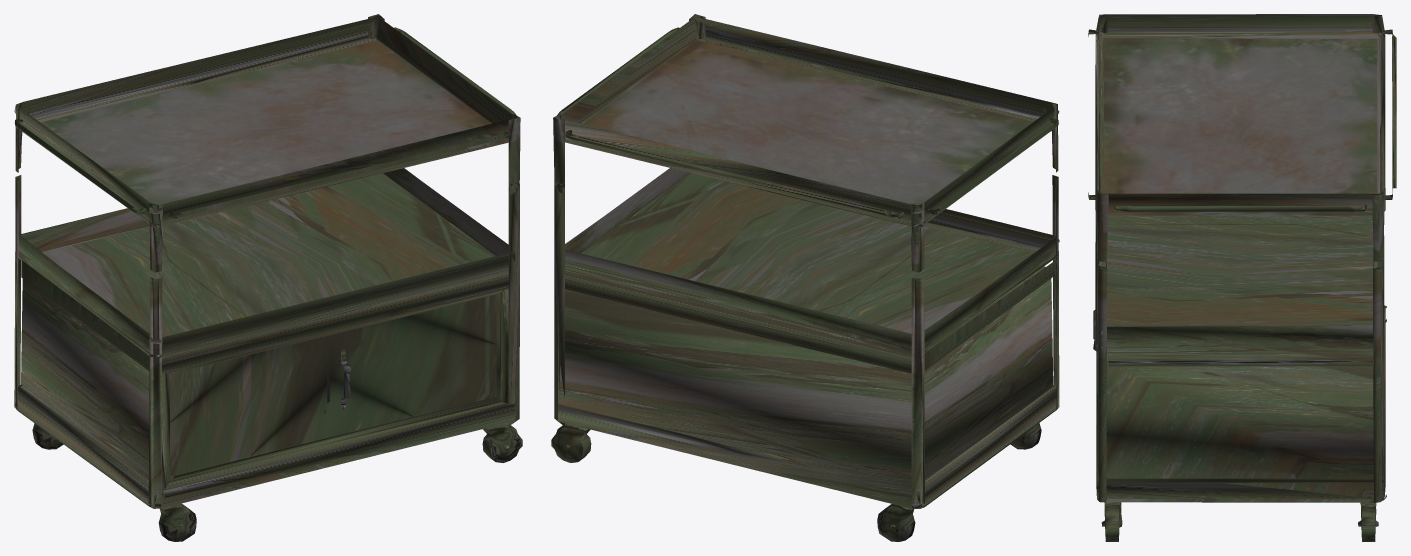
The model's file is industrial_storage_cart.glb.
3 views of the same model, side by side, from view 1: azimuth 30°, elevation 25°; view 2: azimuth 150°, elevation 25°; view 3: azimuth 270°, elevation 25° (orthographic).
Visible parts, largest first — view 1: industrial_storage_cart; view 2: industrial_storage_cart; view 3: industrial_storage_cart.
Boxes of the visible parts, x1,y1,x2,y2 form: industrial_storage_cart: (14, 14, 522, 541); industrial_storage_cart: (551, 14, 1059, 541); industrial_storage_cart: (1088, 14, 1396, 541).
Bounding box in the file's own units: 1.58 × 1.37 × 1.09.
Materials: 1 (1 with a texture image).
